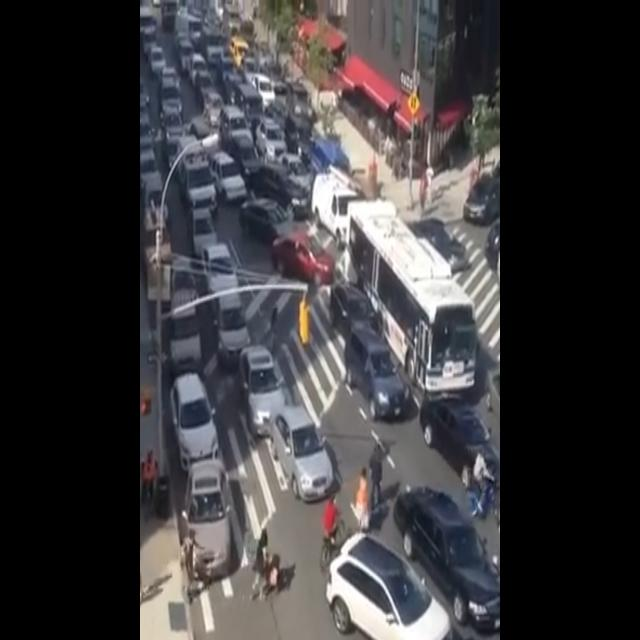Ambulance: (172, 128, 220, 219)
